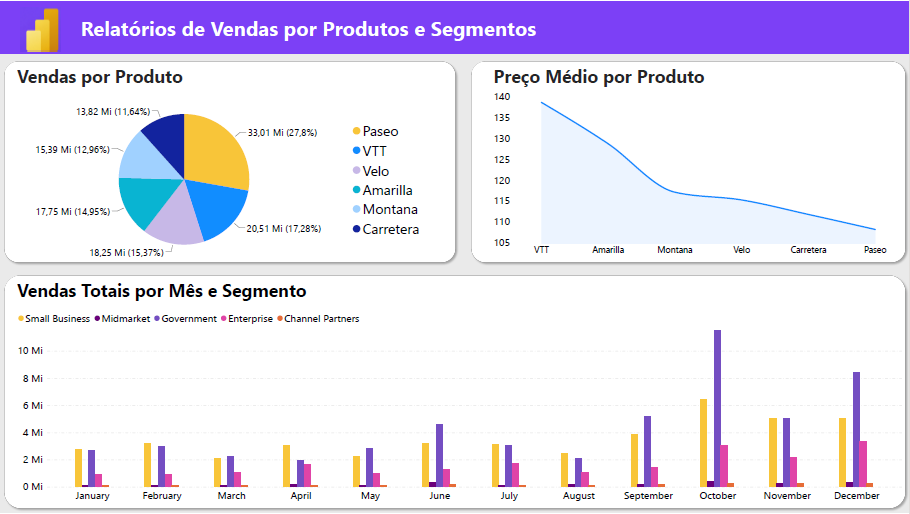

This screenshot's page, from the dashboard's own definition file:
{"tool":"powerbi","page":{"name":"Página 1","canvas":[1920,1080],"ordinal":0},"visuals":[{"type":"shape","box":[0,0,1920,110.9],"z":0},{"type":"textbox","box":[169.5,27.9,1481.8,89.3],"z":1000},{"type":"shape","box":[0,118,969.7,441.9],"z":2000},{"type":"shape","box":[986.8,118,933.2,441.9],"z":3000},{"type":"pieChart","title":"Vendas por Produto","fields":{"Category":["financials.Product"],"Y":["Sum(financials. Sales)"]},"box":[19.3,118,890.3,452.6],"z":4000},{"type":"image","box":[0,12.9,169.5,92.2],"z":5000},{"type":"areaChart","title":"Preço Médio por Produto","fields":{"Category":["financials.Product"],"Y":["Avg(financials.Sale Price)"]},"box":[1025.4,118,894.6,441.9],"z":6000},{"type":"shape","box":[0,570.6,1920,508.4],"z":8000},{"type":"clusteredColumnChart","title":"Vendas Totais por Mês e Segmento","fields":{"Category":["financials.Month Name"],"Series":["financials.Segment"],"Y":["Sum(financials. Sales)"]},"box":[19.3,570.6,1900.7,508.4],"z":9000}]}

Visuals, with their boxes in screenshot pixels (x1, y1, x2, y2), scaled from the page's 1920x1080 canvas onto the 910x514 screenshot:
shape: locate(0, 0, 909, 53)
textbox: locate(80, 13, 783, 56)
shape: locate(0, 56, 460, 266)
shape: locate(468, 56, 909, 266)
"Vendas por Produto" pieChart: locate(9, 56, 431, 272)
image: locate(0, 6, 80, 50)
"Preço Médio por Produto" areaChart: locate(486, 56, 909, 266)
shape: locate(0, 272, 909, 513)
"Vendas Totais por Mês e Segmento" clusteredColumnChart: locate(9, 272, 909, 513)
